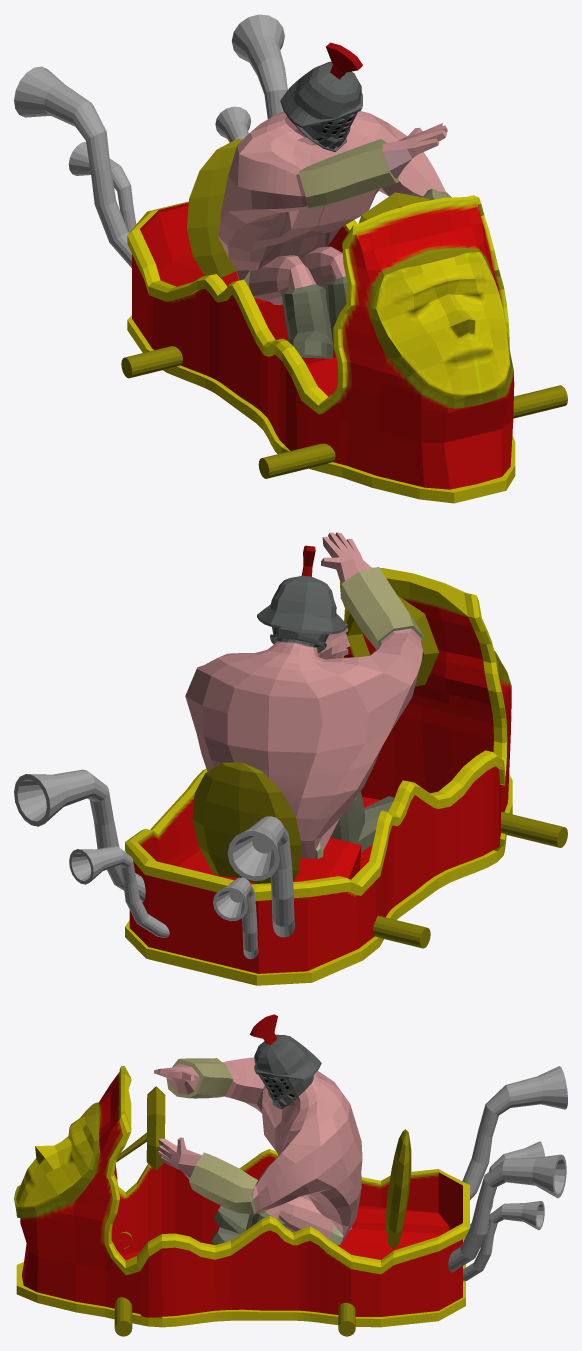
Rendered from gladiVacile_000513.obj.
3 views of the same model, one above another, from view 1: azimuth 30°, elevation 25°; view 2: azimuth 150°, elevation 25°; view 3: azimuth 270°, elevation 25° (orthographic). The views are drawn at different scales.
Visible parts, largest first — view 1: GladiChasis_GladiChasisH, Gadiador_Gladiador_H.001, GladiTubos_GladiTubosH, GladiVolante_GladiVolanteH; view 2: GladiChasis_GladiChasisH, Gadiador_Gladiador_H.001, GladiTubos_GladiTubosH, GladiVolante_GladiVolanteH; view 3: GladiChasis_GladiChasisH, Gadiador_Gladiador_H.001, GladiTubos_GladiTubosH, GladiVolante_GladiVolanteH.
Boxes of the visible parts, <box> form: GladiChasis_GladiChasisH: <box>127,195,515,503</box>; Gadiador_Gladiador_H.001: <box>218,42,451,358</box>; GladiTubos_GladiTubosH: <box>14,14,287,267</box>; GladiVolante_GladiVolanteH: <box>121,139,567,478</box>; GladiChasis_GladiChasisH: <box>125,567,512,985</box>; Gadiador_Gladiador_H.001: <box>185,532,423,858</box>; GladiTubos_GladiTubosH: <box>14,769,294,959</box>; GladiVolante_GladiVolanteH: <box>192,595,567,948</box>; GladiChasis_GladiChasisH: <box>14,1066,469,1327</box>; Gadiador_Gladiador_H.001: <box>154,1014,362,1245</box>; GladiTubos_GladiTubosH: <box>448,1066,567,1281</box>; GladiVolante_GladiVolanteH: <box>114,1086,411,1336</box>.
Size of the model in its own units: 5.46 by 5.84 by 10.78.
